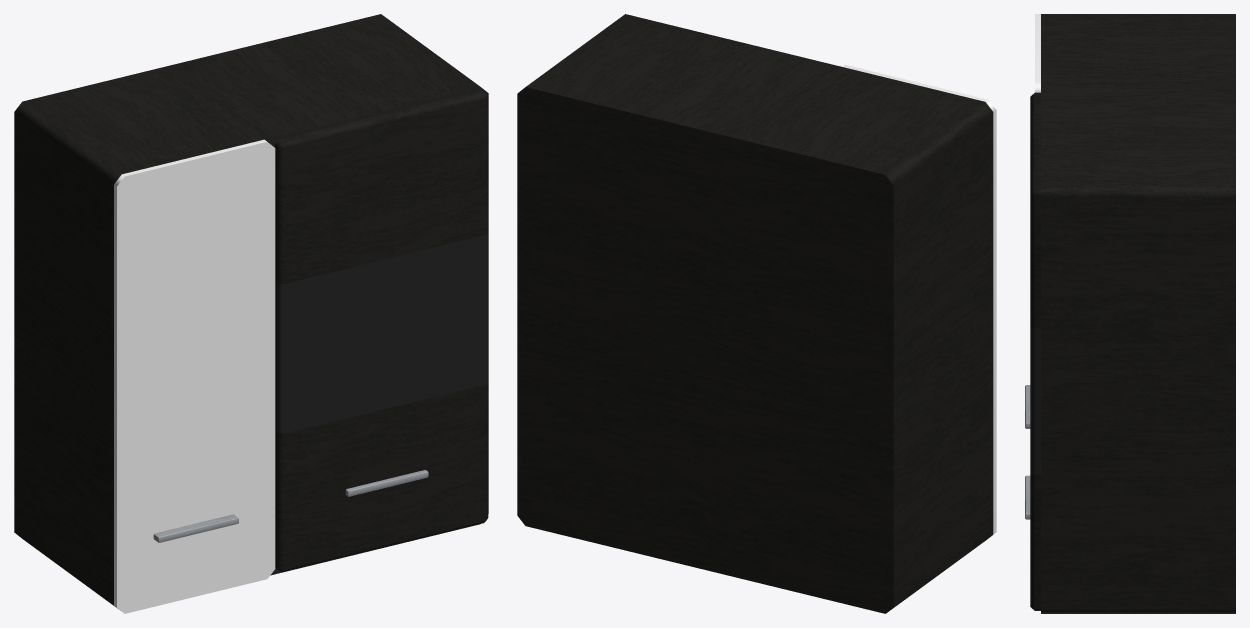
The model's file is wall_cabinet_003.fbx.
3 renders of one model, left to right at view 1: azimuth 30°, elevation 25°; view 2: azimuth 150°, elevation 25°; view 3: azimuth 270°, elevation 25°, orthographic. The views are drawn at different scales.
Parts seen in each view (by area): view 1: wall_cabinet_003; view 2: wall_cabinet_003; view 3: wall_cabinet_003.
Boxes of the visible parts, left/top/right/bottom form: wall_cabinet_003: left=14, top=14, right=488, bottom=613; wall_cabinet_003: left=517, top=14, right=996, bottom=613; wall_cabinet_003: left=1025, top=14, right=1235, bottom=613.
Size of the model in its own units: 151 by 75.23 by 169.
